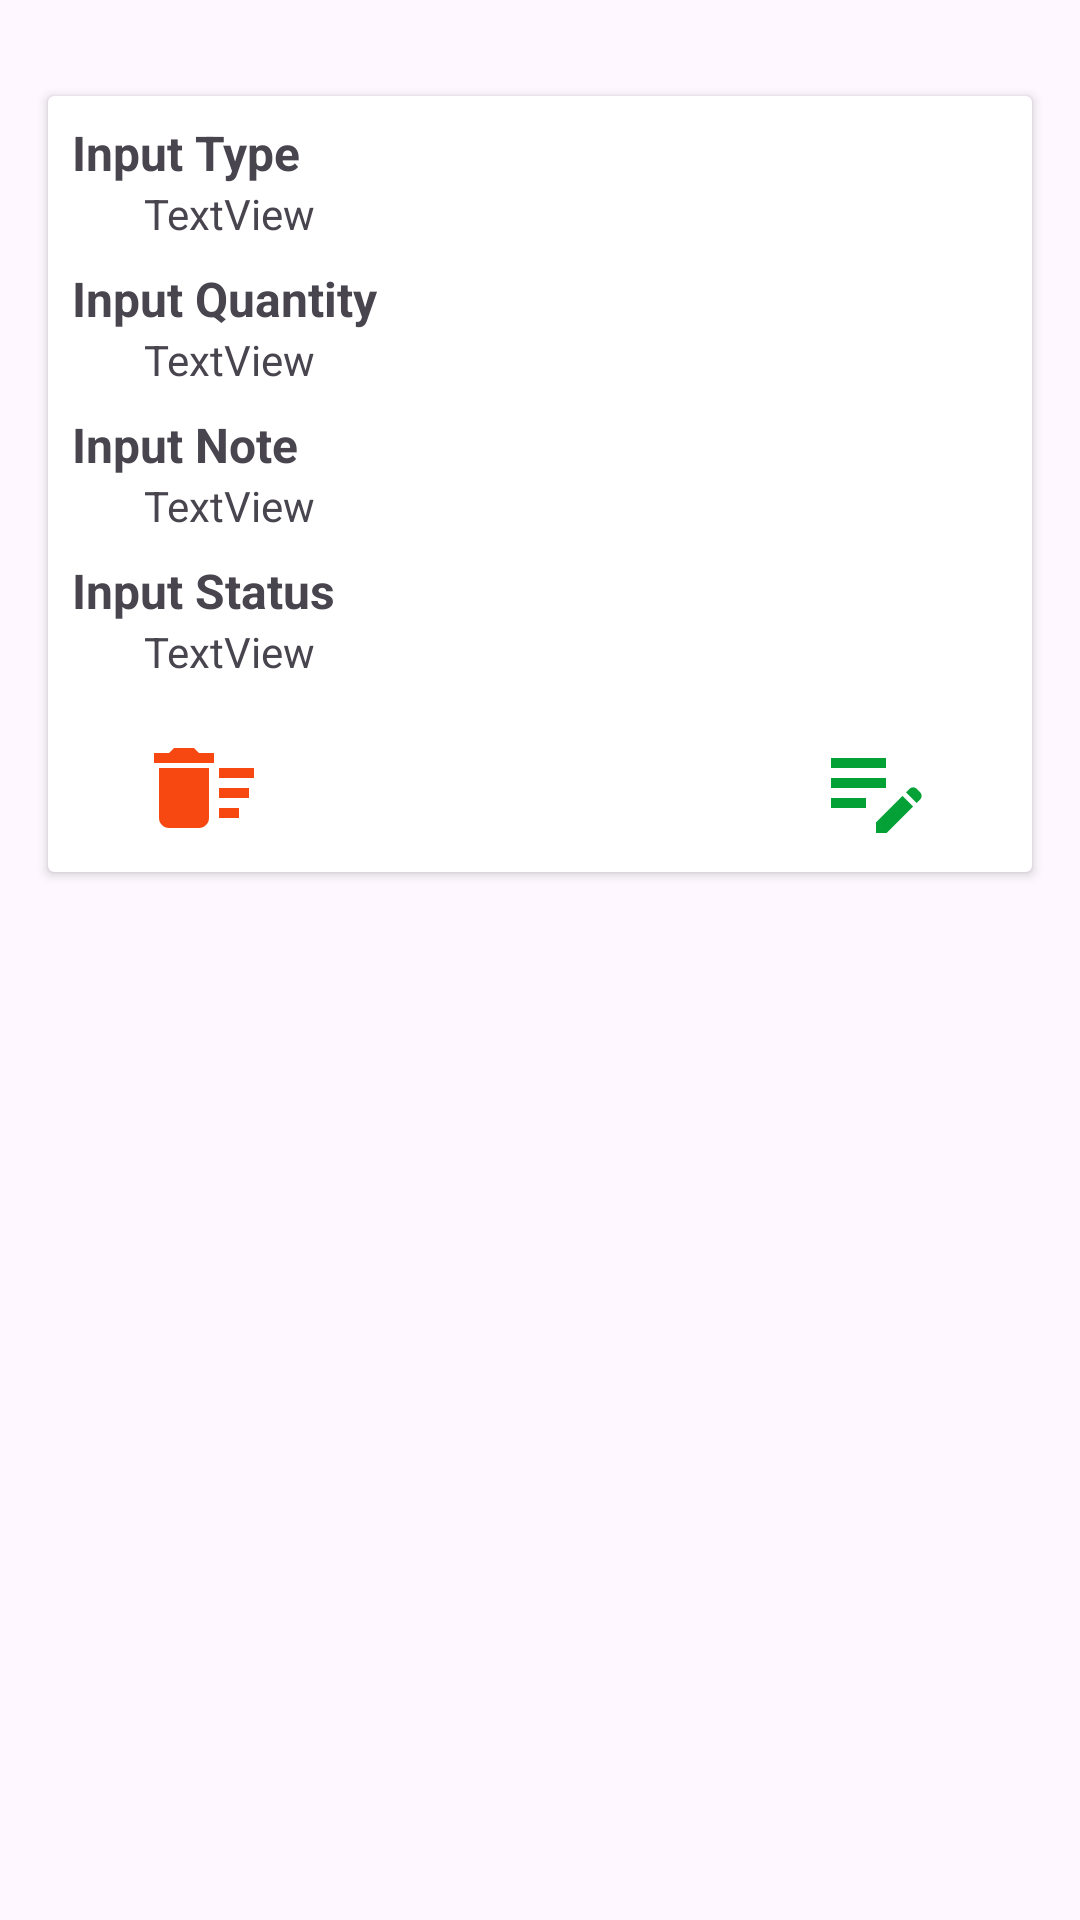

Where to tap for icons on this 1080*1920 app screen, as [x,y]:
delete sweep: [204,788]
edit note: [876,795]
